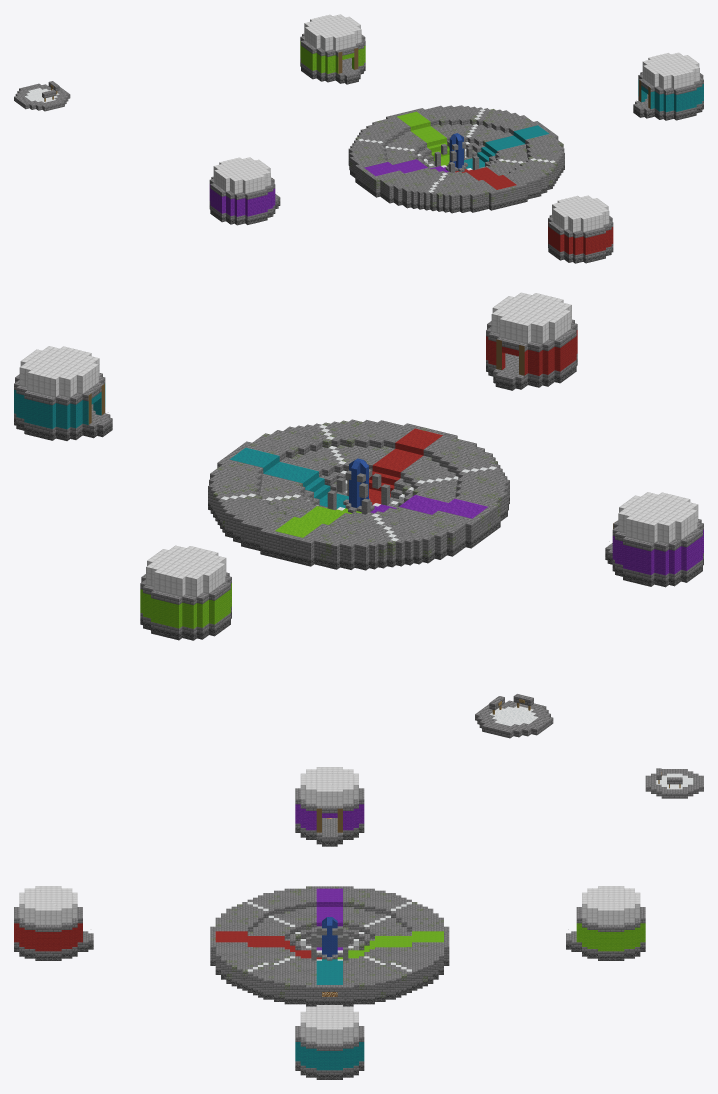
The model's file is minecraft.obj.
The picture shows the model from 3 angles, top to bottom: view 1: azimuth 30°, elevation 25°; view 2: azimuth 150°, elevation 25°; view 3: azimuth 270°, elevation 25°; orthographic projection. The views are drawn at different scales.
Size of the model in its own units: 130 by 14 by 130.
